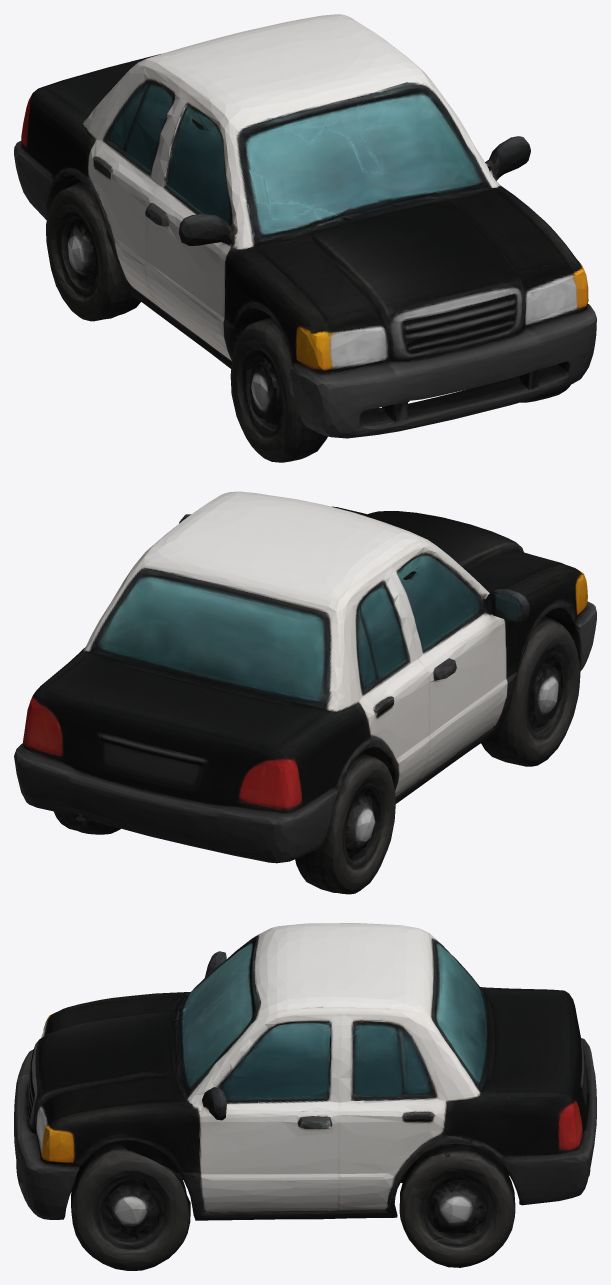
File: retired_cruiser.glb
3 renders of one model, top to bottom at view 1: azimuth 30°, elevation 25°; view 2: azimuth 150°, elevation 25°; view 3: azimuth 270°, elevation 25°, orthographic. The views are drawn at different scales.
Visible parts, largest first — view 1: geometry_0; view 2: geometry_0; view 3: geometry_0.
Boxes of the visible parts, bbox=[...] form: geometry_0: bbox=[14, 14, 596, 462]; geometry_0: bbox=[14, 491, 596, 894]; geometry_0: bbox=[14, 923, 596, 1270].
Size of the model in its own units: 0.6151 by 0.4766 by 0.9986.
Materials: 1 (1 with a texture image).
